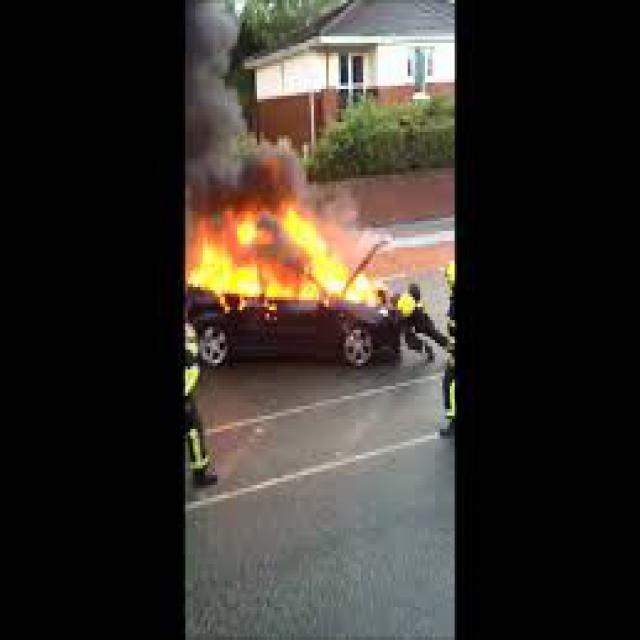fire: (181, 173, 414, 325)
